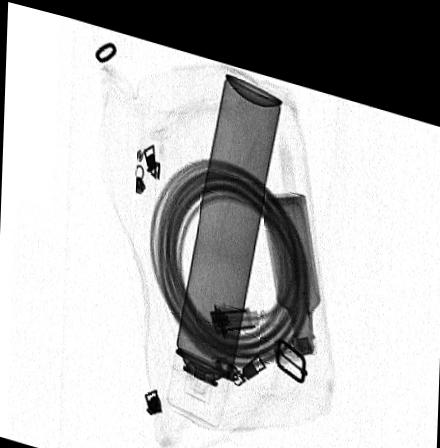Sprayer: (167, 61, 281, 417)
